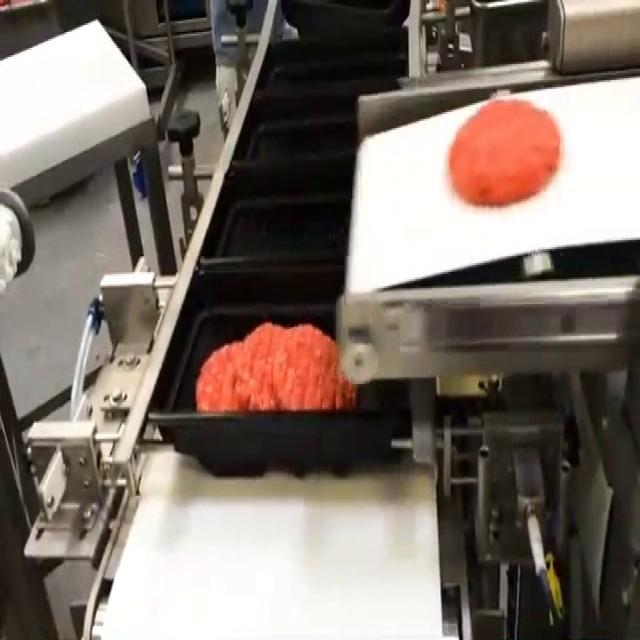hamburguer: (449, 100, 560, 204)
